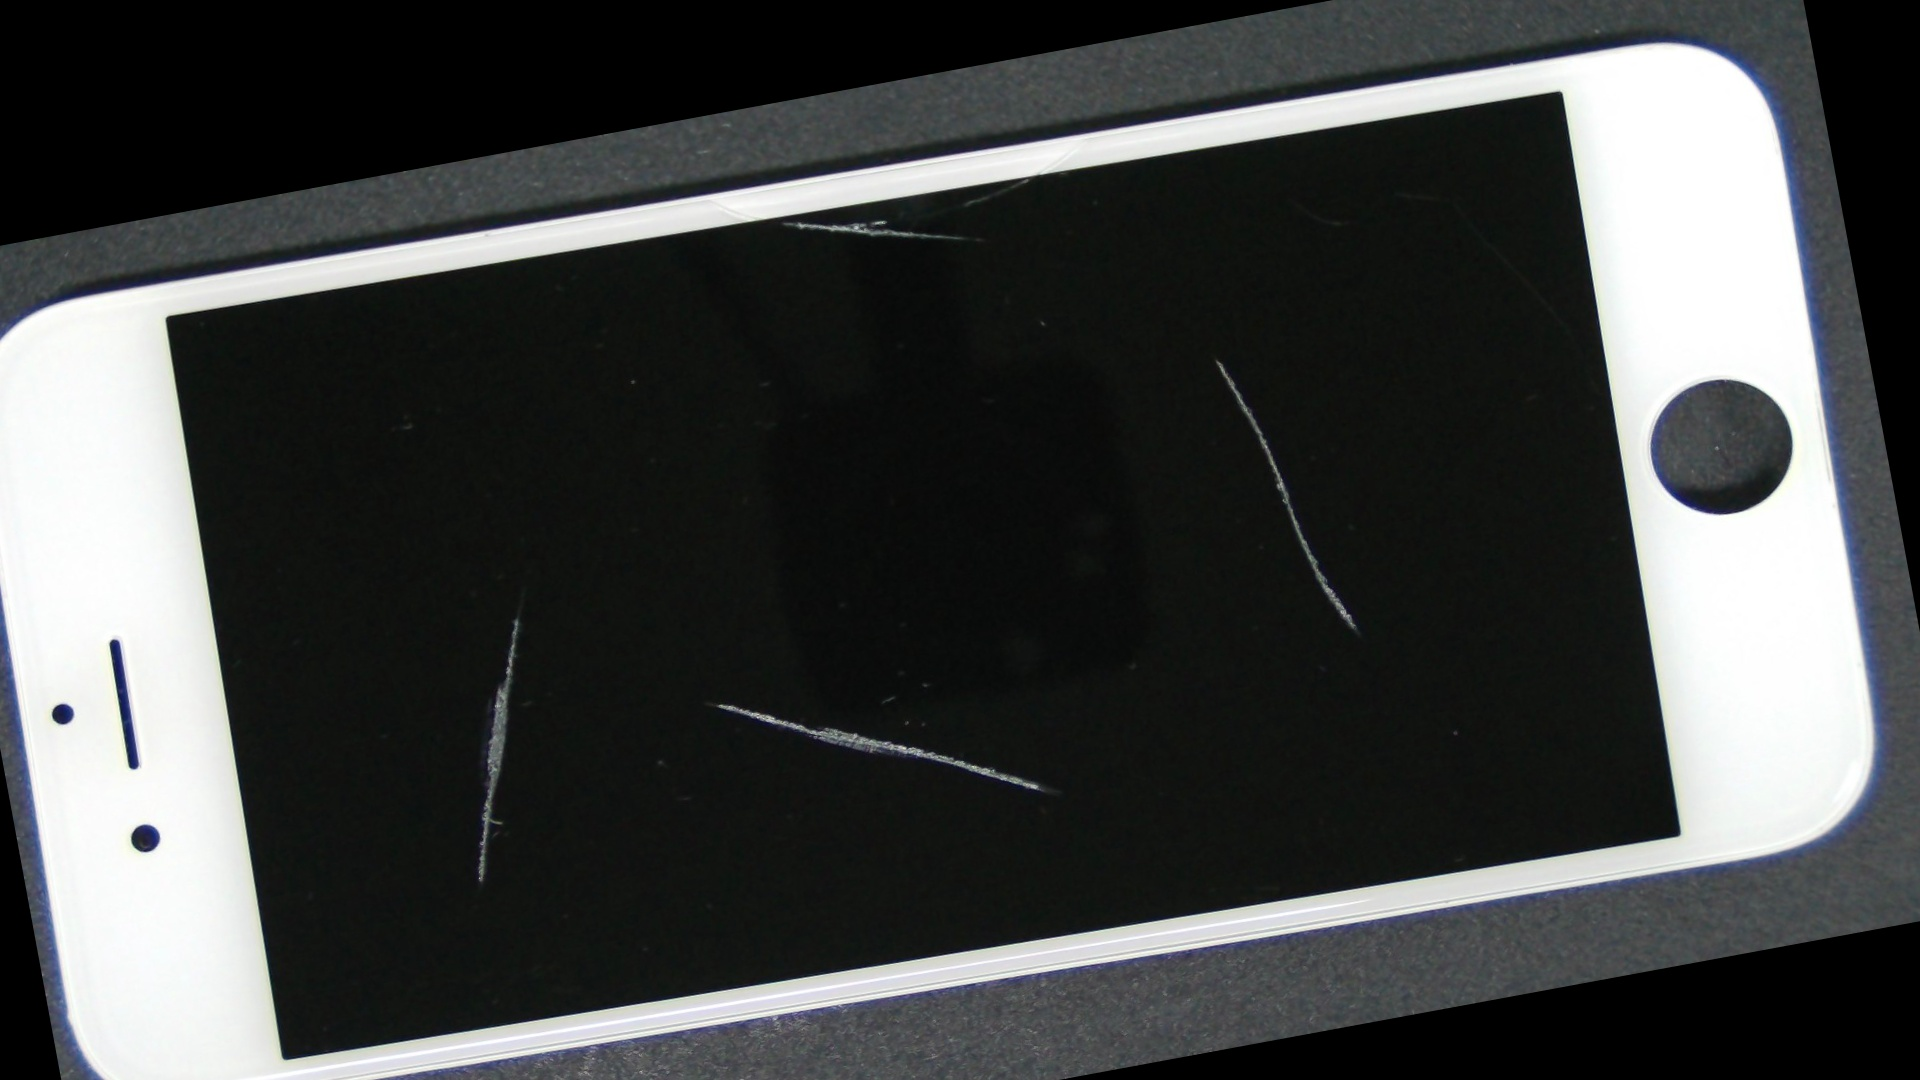oil: (562, 79, 1866, 636), (309, 352, 1117, 1058), (212, 344, 814, 894), (345, 84, 1216, 360)
